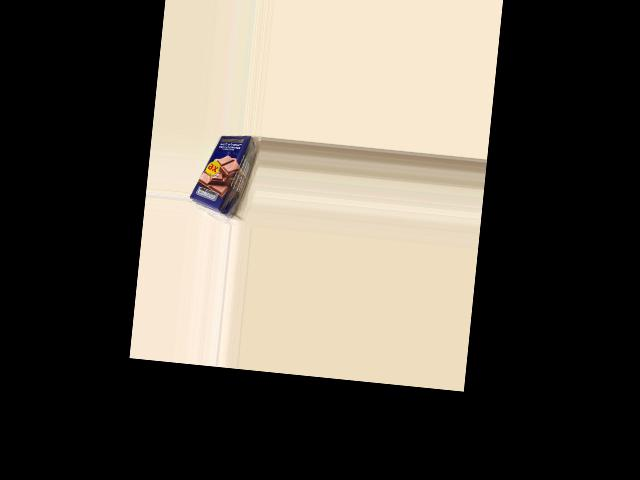chocolate: (187, 130, 256, 214)
